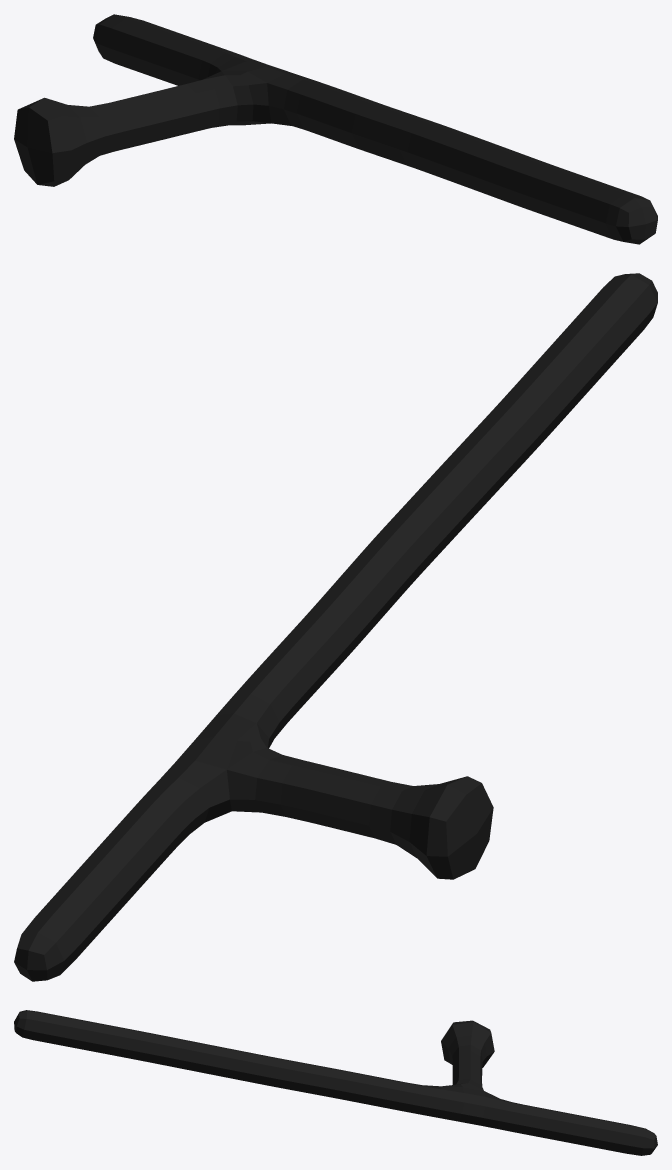
The model's file is baton lowpoly.fbx.
3 renders of one model, top to bottom at view 1: azimuth 30°, elevation 25°; view 2: azimuth 150°, elevation 25°; view 3: azimuth 270°, elevation 25°, orthographic. The views are drawn at different scales.
Visible parts, largest first — view 1: baton_low_poly; view 2: baton_low_poly; view 3: baton_low_poly.
Part boxes in pixels (bbox=[...]): baton_low_poly: bbox=[14, 14, 657, 244]; baton_low_poly: bbox=[14, 273, 657, 981]; baton_low_poly: bbox=[14, 1010, 657, 1155].
Bounding box in the file's own units: 17.12 × 15.24 × 61.92.
1 material, 1 textured.
